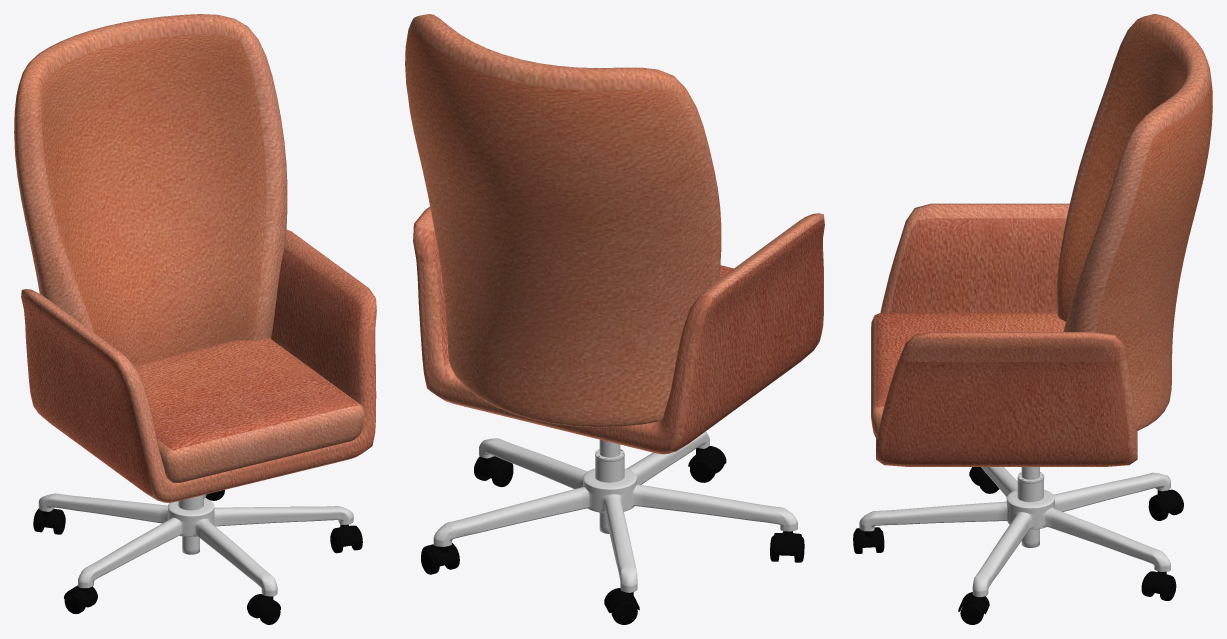
The model's file is chair.fbx.
The picture shows the model from 3 angles, left to right: view 1: azimuth 30°, elevation 25°; view 2: azimuth 150°, elevation 25°; view 3: azimuth 270°, elevation 25°; orthographic projection. The views are drawn at different scales.
Visible parts, largest first — view 1: seat_side_low_7, pasted__pCylinder1_7; view 2: seat_side_low_7, pasted__pCylinder1_7; view 3: seat_side_low_7, pasted__pCylinder1_7.
Part boxes in pixels (x1,y1,x2,y2): seat_side_low_7: (14,14,376,502); pasted__pCylinder1_7: (33,490,362,624); seat_side_low_7: (405,14,824,454); pasted__pCylinder1_7: (421,431,804,624); seat_side_low_7: (871,14,1212,466); pasted__pCylinder1_7: (853,467,1183,624).
Size of the model in its own units: 7970 by 12643 by 8364.
3 materials, 1 textured.
